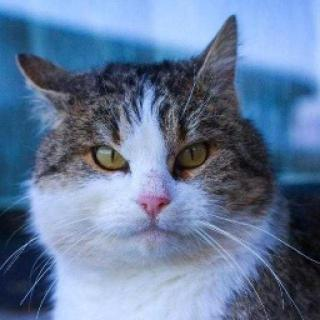cat: (18, 41, 274, 275)
nose: (130, 185, 180, 220)
